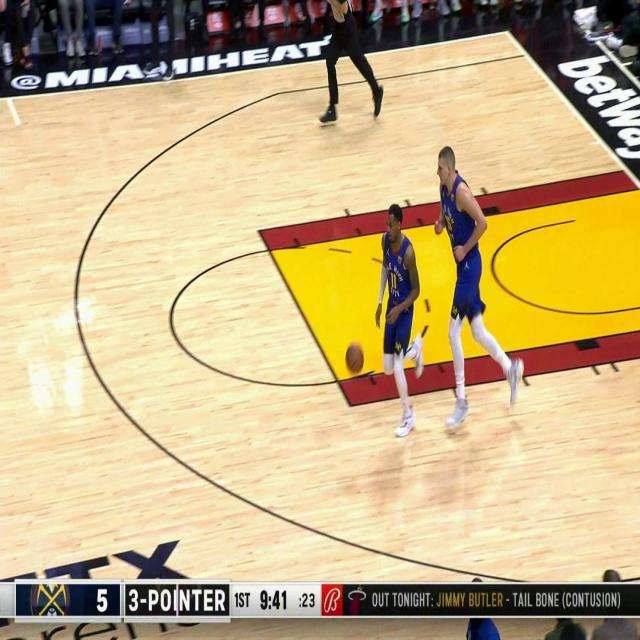rim: (346, 343, 364, 372)
